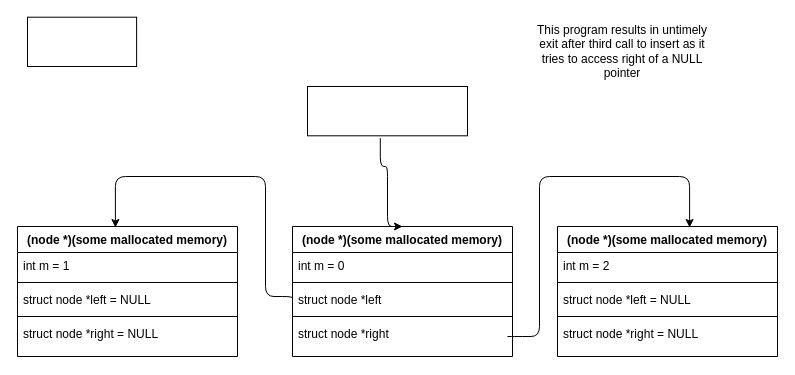
This 795x375 diagram has some shape labels left out. Each missing label, with the centre of its shape:
"int i = 2" goes at point (81, 41).
"tree p (node *p)" goes at point (387, 111).
